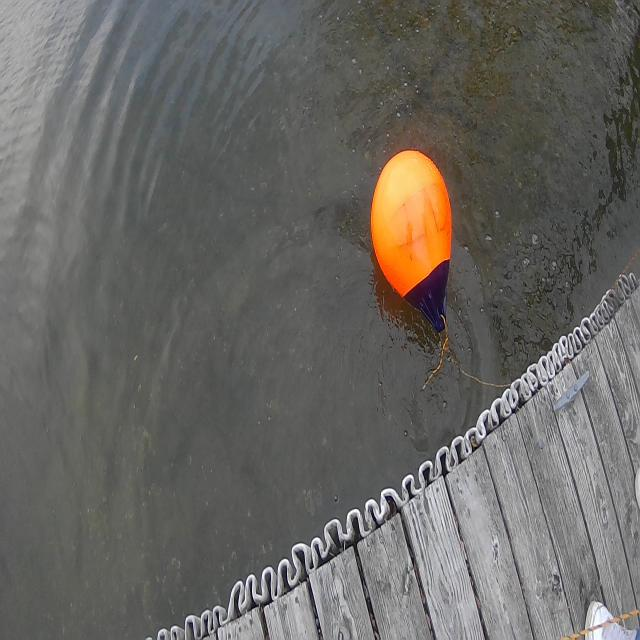Buoy: (367, 137, 461, 338)
